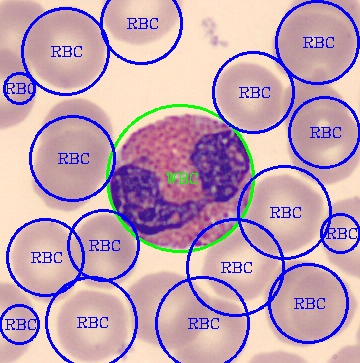RBC: (23, 4, 106, 90), (270, 10, 357, 87), (127, 269, 210, 349), (30, 129, 108, 214), (247, 171, 324, 254), (9, 218, 79, 305), (202, 224, 279, 302), (285, 108, 358, 186), (54, 288, 129, 361), (171, 295, 250, 362), (263, 256, 320, 347), (291, 266, 358, 342), (214, 59, 283, 132), (73, 212, 138, 289), (282, 70, 351, 137), (39, 94, 115, 151), (99, 0, 184, 48), (320, 194, 359, 280), (1, 46, 38, 131), (1, 280, 38, 362), (1, 0, 47, 65), (283, 1, 359, 37)
WBC: (108, 109, 256, 248)
